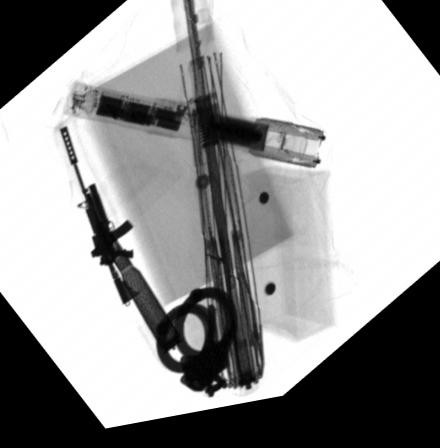Baton: (62, 81, 326, 182)
Bullet: (93, 219, 183, 358)
Gun: (58, 126, 142, 309)
HandCuffs: (155, 295, 239, 404)
